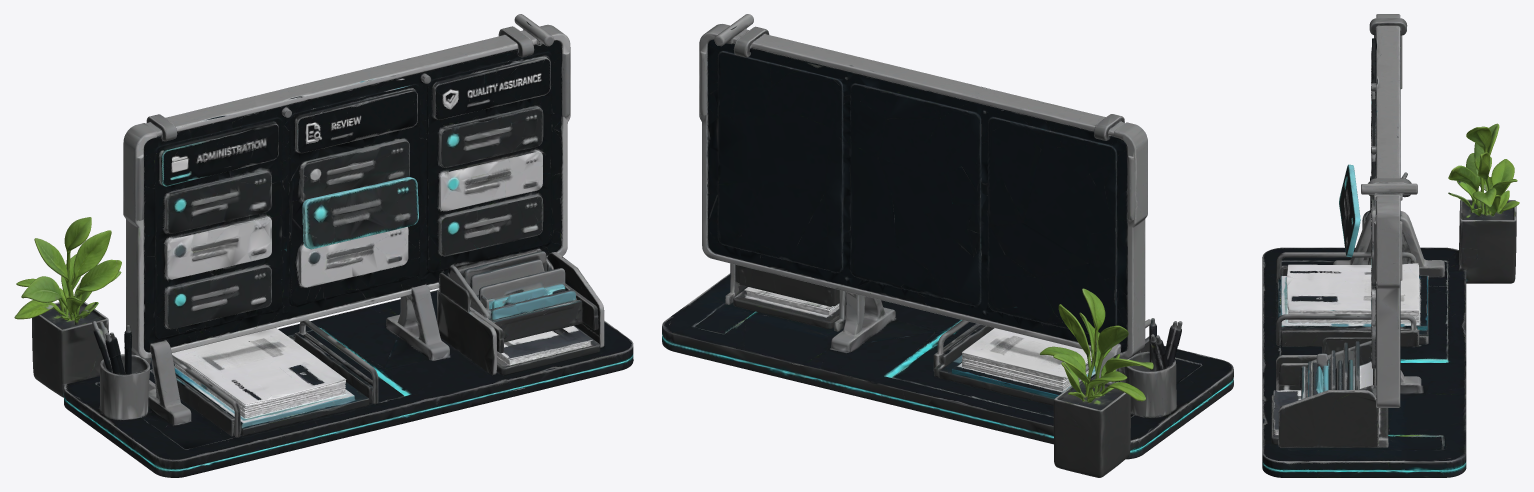
Rendered from workflow-board.glb.
3 renders of one model, left to right at view 1: azimuth 30°, elevation 25°; view 2: azimuth 150°, elevation 25°; view 3: azimuth 270°, elevation 25°, orthographic. The views are drawn at different scales.
Bounding box in the file's own units: 1.9 × 1.08 × 0.9132.
Materials: 1 (1 with a texture image).
